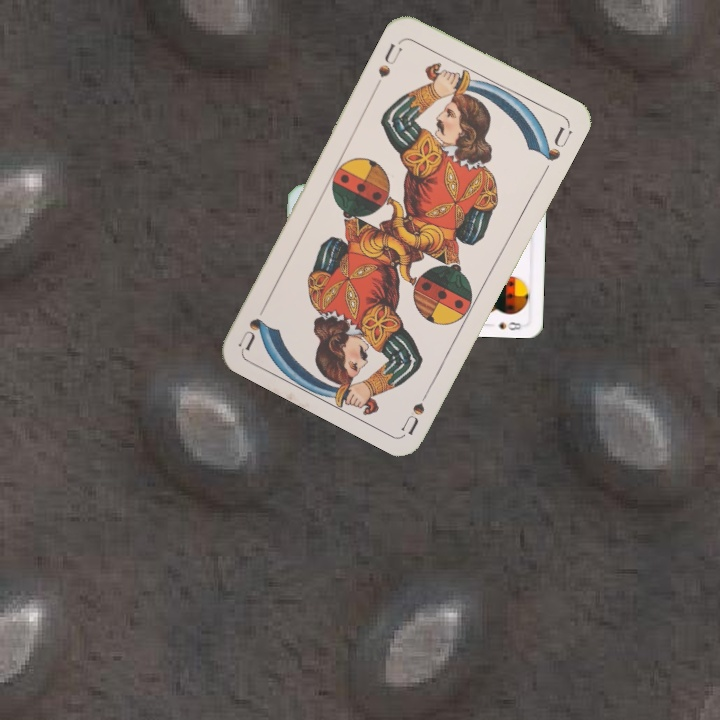SU: (398, 379, 435, 436), (371, 35, 406, 90)
